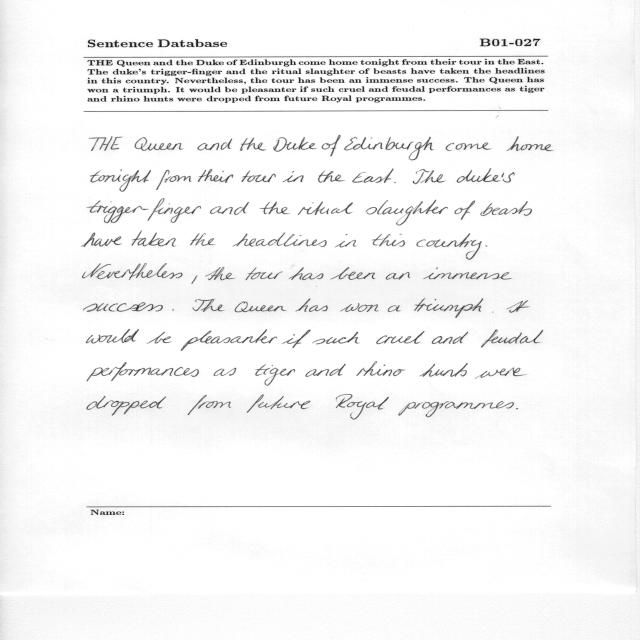word: (87, 199, 249, 224), (87, 362, 199, 382), (365, 200, 448, 226), (181, 329, 277, 351), (344, 137, 434, 160), (398, 401, 514, 418), (416, 233, 482, 260), (83, 264, 183, 280), (87, 396, 166, 415), (232, 233, 327, 248), (336, 394, 389, 420), (90, 170, 151, 192), (415, 299, 484, 318), (247, 395, 310, 413), (423, 268, 512, 280), (481, 330, 543, 347), (255, 364, 295, 386), (188, 395, 231, 415), (457, 169, 515, 183), (83, 302, 163, 312), (481, 201, 532, 216), (356, 362, 406, 377), (86, 330, 139, 344), (132, 231, 176, 247), (156, 170, 191, 190), (507, 136, 553, 151), (135, 137, 184, 151), (419, 363, 468, 377), (273, 137, 316, 152), (377, 331, 425, 344), (475, 367, 526, 379), (352, 169, 394, 183), (331, 267, 375, 280), (235, 302, 286, 313), (313, 332, 359, 344), (83, 233, 122, 247), (305, 364, 346, 377), (282, 330, 311, 348), (90, 136, 123, 151), (198, 169, 233, 183), (246, 268, 283, 281), (413, 169, 445, 184), (289, 267, 323, 280), (298, 201, 329, 215), (432, 332, 468, 344), (372, 234, 405, 247), (295, 299, 328, 312), (322, 135, 341, 157), (446, 142, 492, 151), (193, 299, 224, 312), (455, 201, 476, 220), (205, 267, 235, 280), (198, 139, 232, 150), (242, 171, 276, 182), (240, 137, 266, 151), (260, 202, 290, 214), (341, 303, 379, 312), (190, 233, 216, 246), (318, 171, 345, 183), (507, 300, 530, 313), (147, 332, 171, 344), (335, 234, 356, 247), (331, 202, 353, 214), (283, 171, 304, 182), (386, 272, 410, 280), (214, 368, 236, 376), (388, 305, 401, 312), (192, 276, 198, 284), (486, 245, 488, 247), (172, 309, 174, 311), (516, 408, 518, 410), (394, 182, 396, 183), (492, 312, 494, 313)
